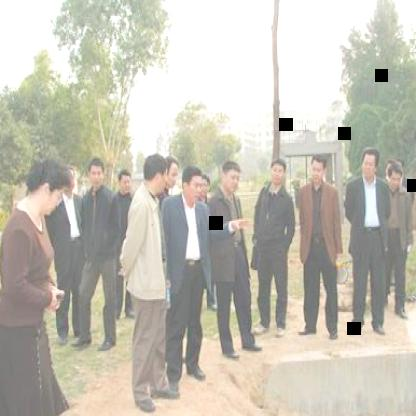head: (21, 156, 72, 221), (144, 150, 170, 194), (216, 159, 242, 195), (358, 147, 382, 182), (182, 166, 204, 204), (86, 154, 107, 191), (266, 158, 290, 188), (165, 154, 181, 192), (308, 154, 328, 184), (388, 162, 408, 190), (118, 168, 134, 192), (64, 166, 78, 192), (200, 174, 214, 198)
